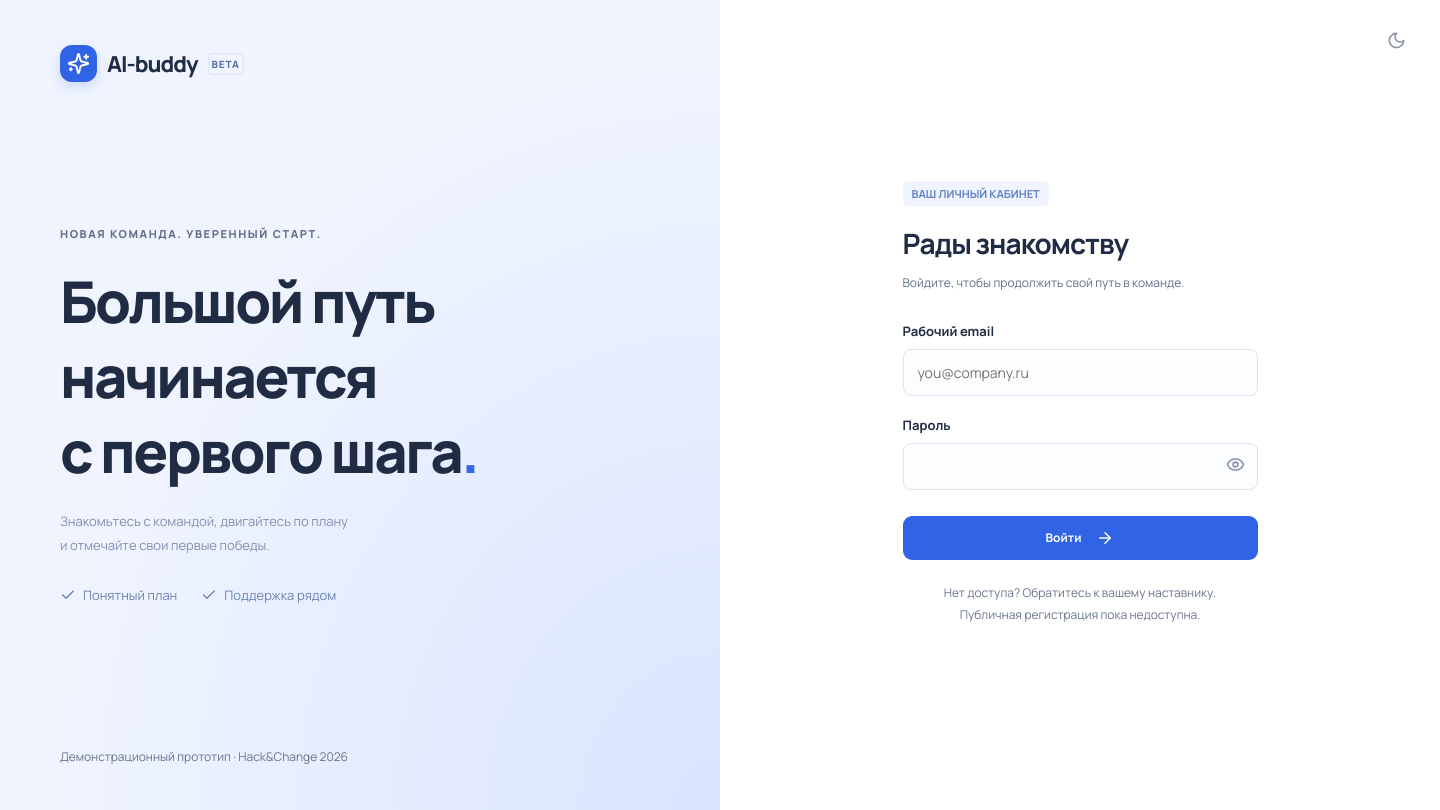
login error
Type "wrong@example.com" into the field labelled "Рабочий email" at x=1080, y=372, box left=902, top=348, right=1258, bottom=396
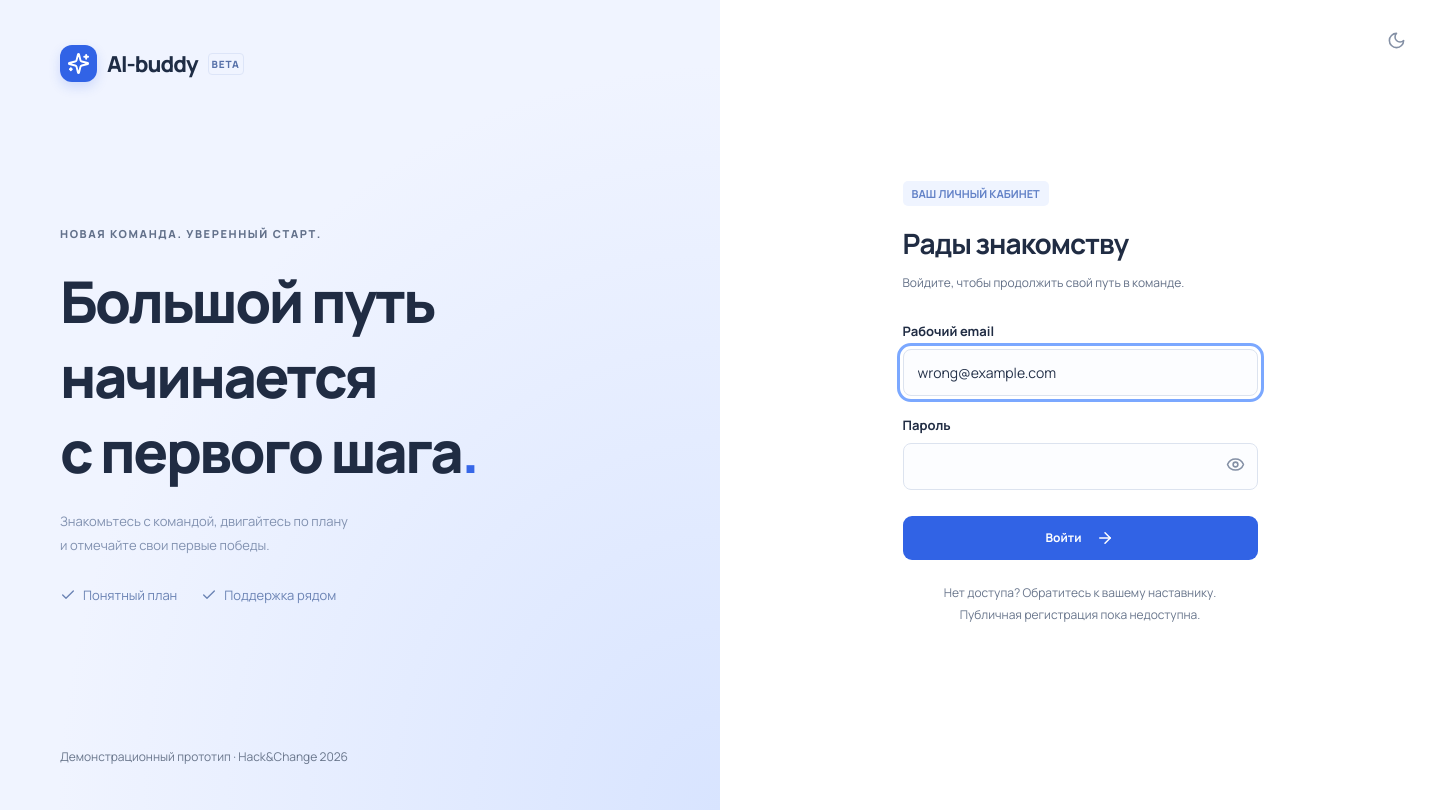
Type "wrong" into the password field labelled "Пароль" at x=1080, y=466, box left=902, top=442, right=1258, bottom=490
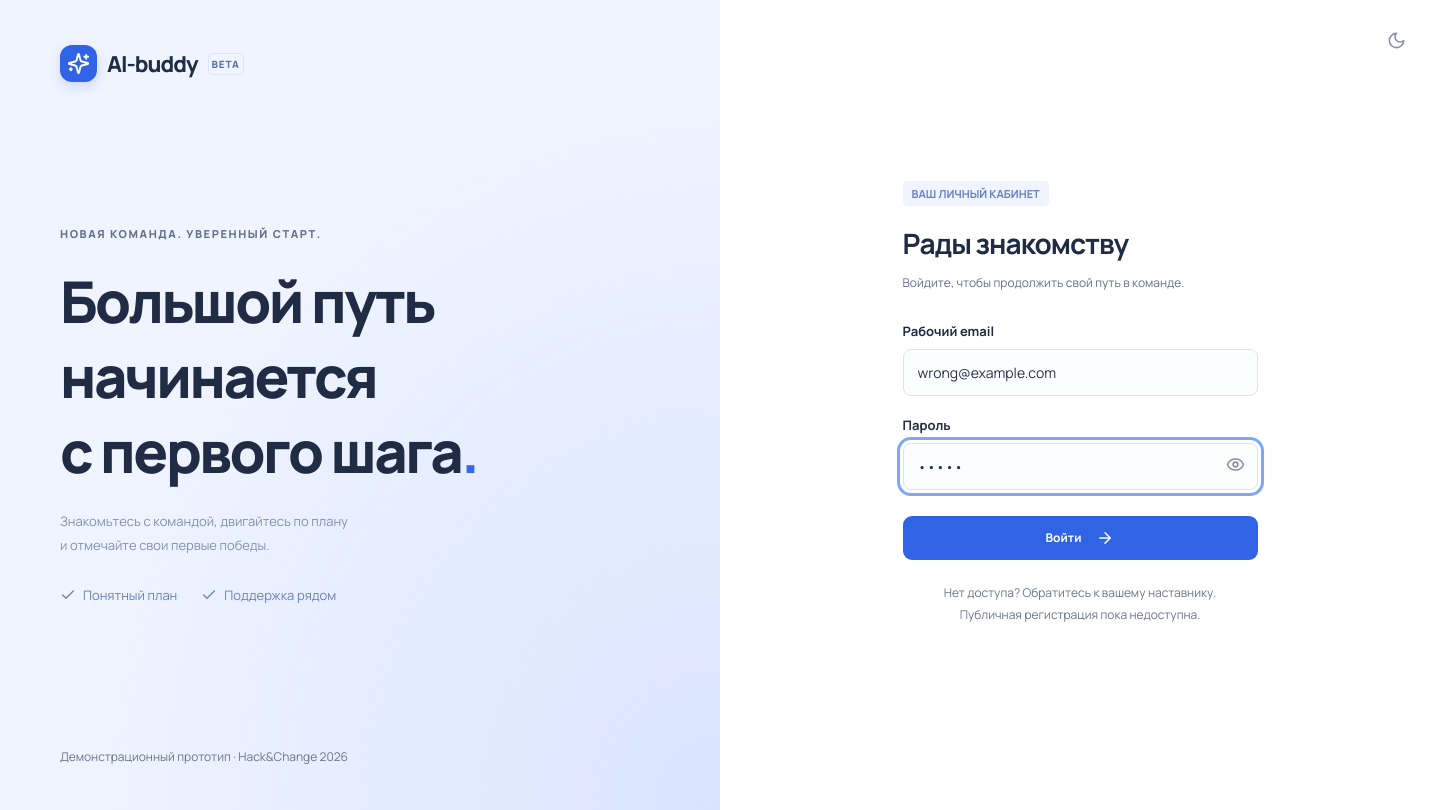
Click the button "Войти" at x=1080, y=538, box left=902, top=516, right=1258, bottom=560
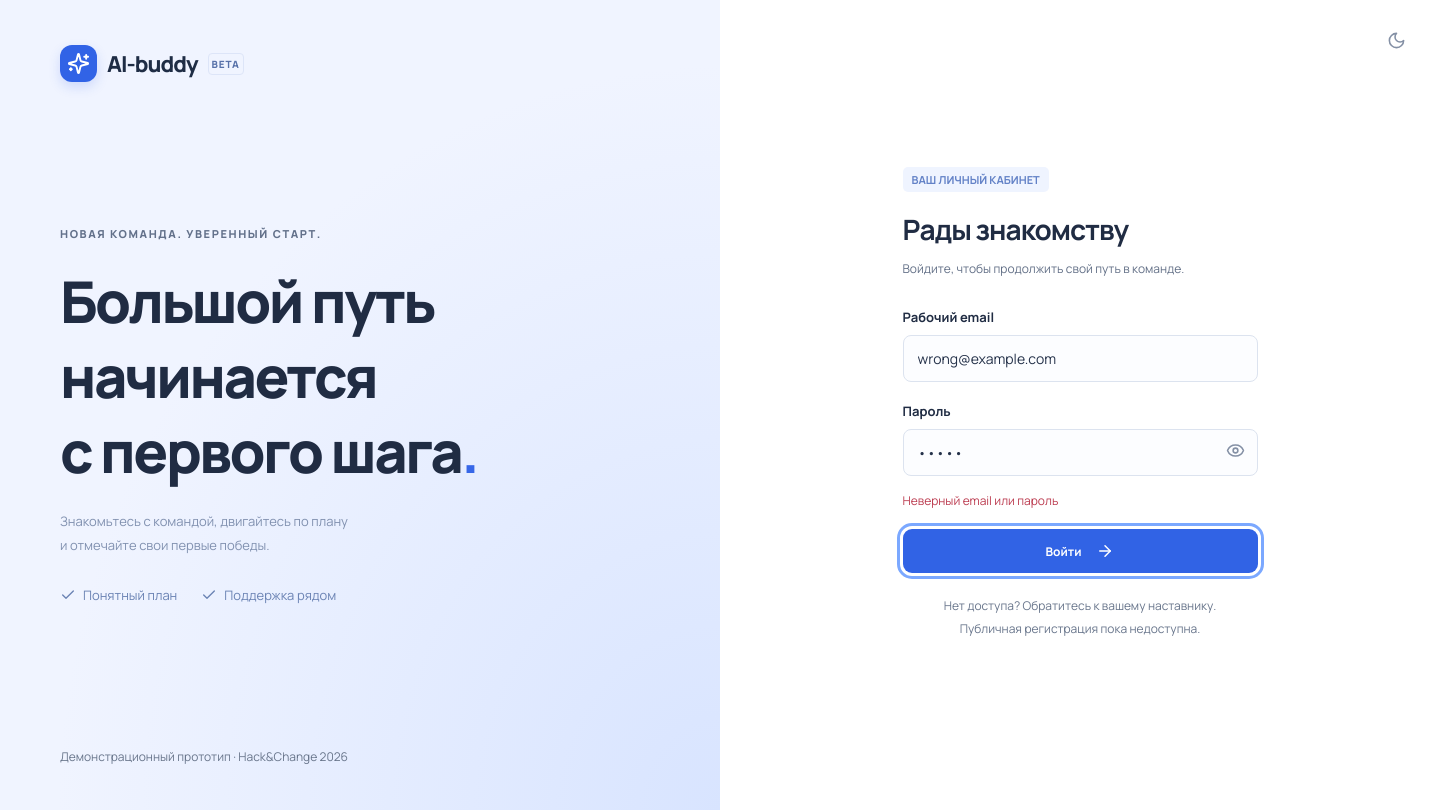
Expected: the message reads "Неверный email или пароль", left=902, top=492, right=1058, bottom=509
